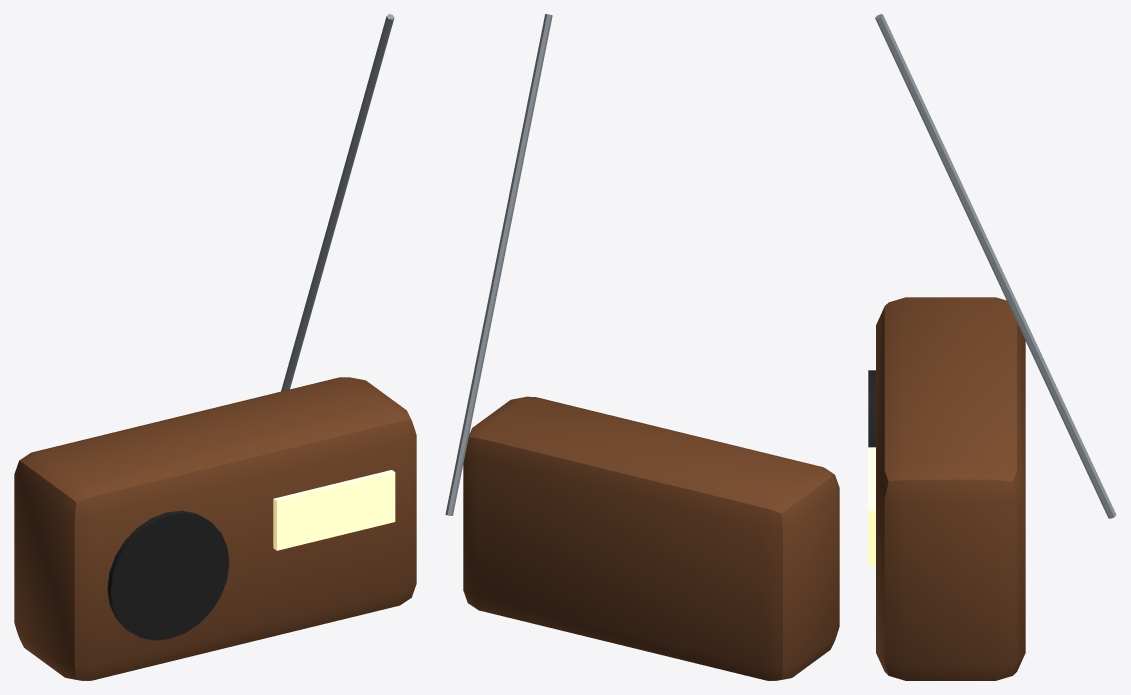
The model's file is radio.glb.
The picture shows the model from 3 angles, left to right: view 1: azimuth 30°, elevation 25°; view 2: azimuth 150°, elevation 25°; view 3: azimuth 270°, elevation 25°; orthographic projection. The views are drawn at different scales.
Visible parts, largest first — view 1: radio; view 2: radio; view 3: radio.
Part boxes in pixels (left/top/right/bottom): radio: left=14, top=14, right=416, bottom=680; radio: left=445, top=14, right=839, bottom=680; radio: left=868, top=14, right=1116, bottom=680.
Size of the model in its own units: 0.3 by 0.4854 by 0.1656.
